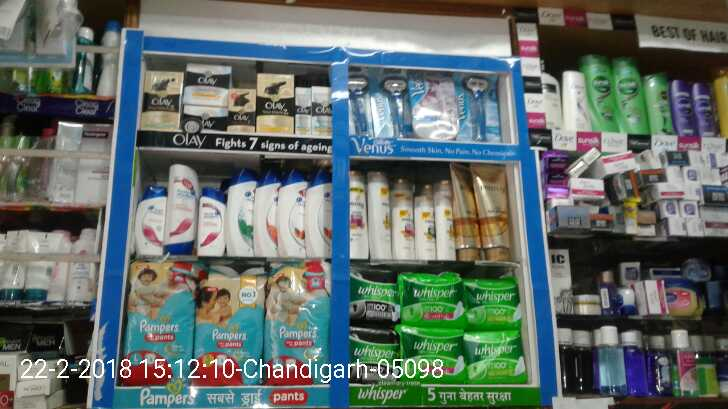venus: (457, 74, 505, 142), (410, 74, 457, 135), (371, 73, 409, 136), (351, 68, 368, 134)
